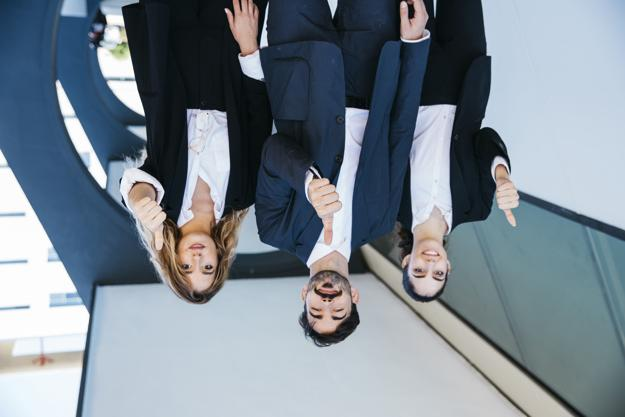thumbsdown: (308, 178, 342, 246), (133, 197, 166, 251), (496, 181, 519, 227)
